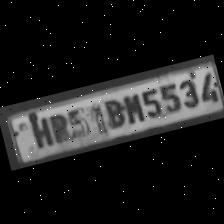1: (84, 99, 107, 135)
3: (174, 74, 200, 110)
4: (192, 68, 220, 105)
5: (62, 104, 90, 140), (156, 79, 182, 115), (138, 84, 164, 119)
B: (98, 95, 125, 131)
H: (25, 112, 55, 150)
M: (118, 89, 144, 126)
R: (45, 108, 71, 145)
